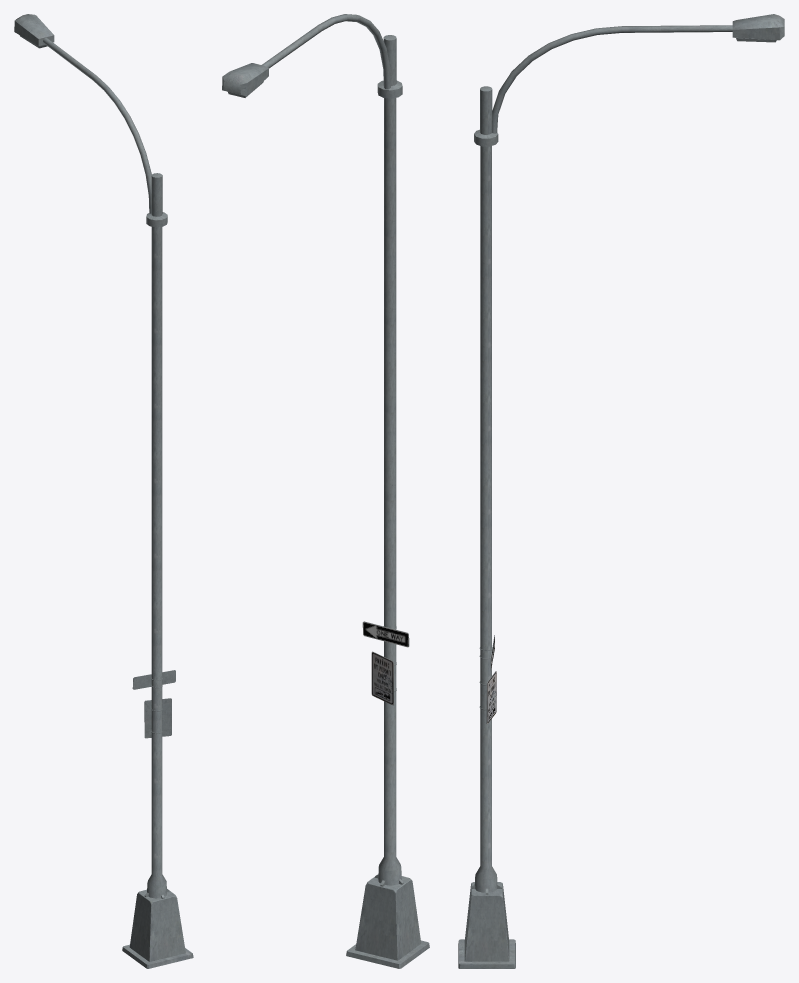
The model's file is syj_zxludeng01.fbx.
3 renders of one model, left to right at view 1: azimuth 30°, elevation 25°; view 2: azimuth 150°, elevation 25°; view 3: azimuth 270°, elevation 25°, orthographic. The views are drawn at different scales.
Parts seen in each view (by area): view 1: syj_zxludeng01; view 2: syj_zxludeng01; view 3: syj_zxludeng01.
Part boxes in pixels (left/top/right/bottom): syj_zxludeng01: left=14, top=14, right=193, bottom=968; syj_zxludeng01: left=222, top=14, right=429, bottom=968; syj_zxludeng01: left=458, top=14, right=784, bottom=968.
Size of the model in its own units: 55.49 by 955 by 301.
